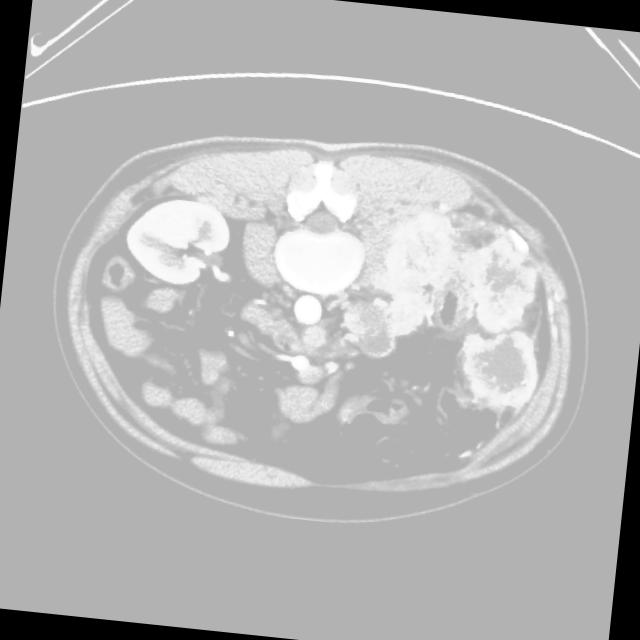TUMOR: (88, 132, 580, 474)
